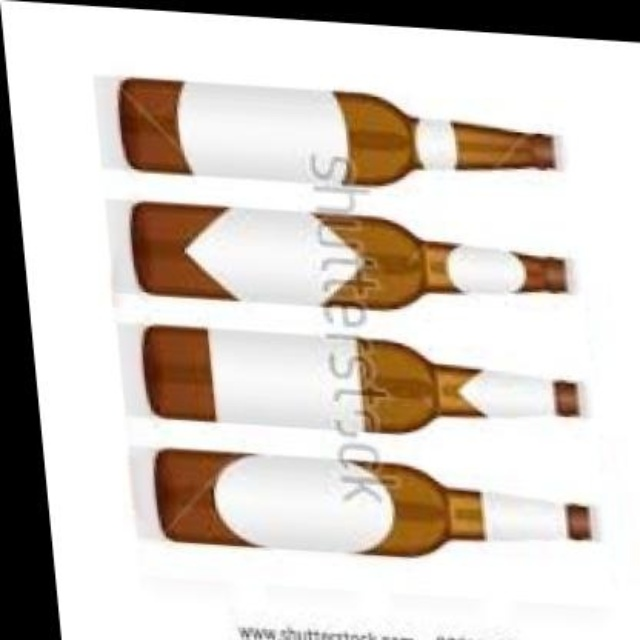trash: (118, 78, 554, 185), (142, 326, 578, 432), (131, 203, 566, 308), (154, 449, 558, 555)
